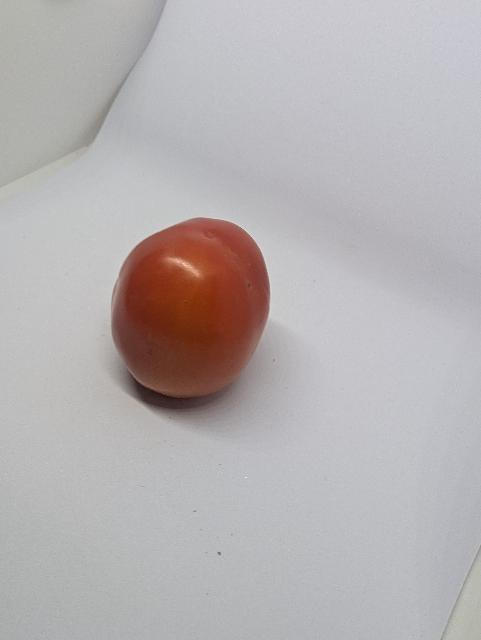red: (88, 200, 304, 433)
